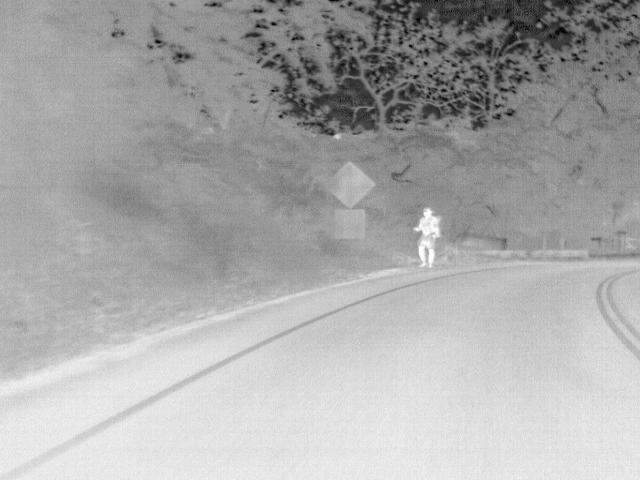person: (412, 204, 442, 269)
